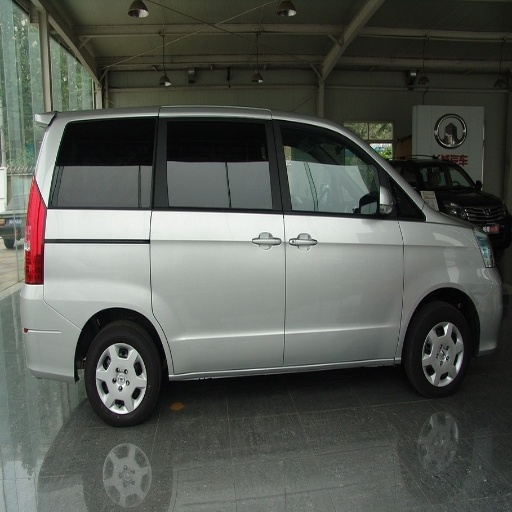back_right_door: (185, 119, 283, 283), (52, 130, 134, 206)
trunk: (27, 243, 149, 374)
